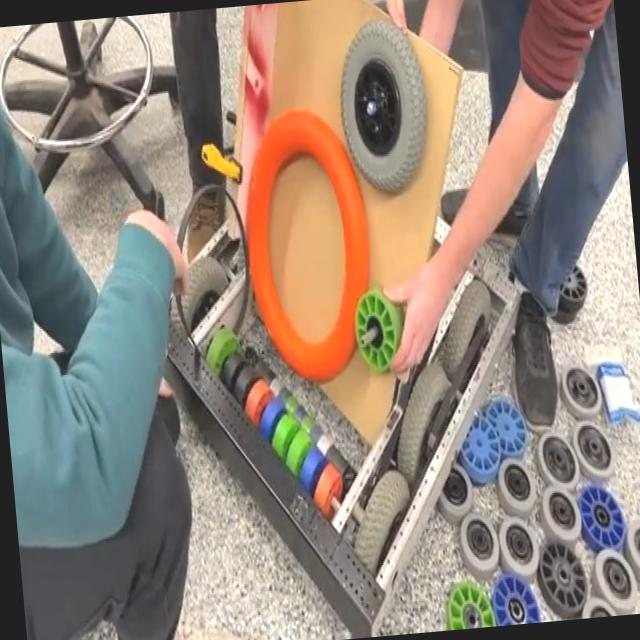note: (233, 101, 383, 392)
